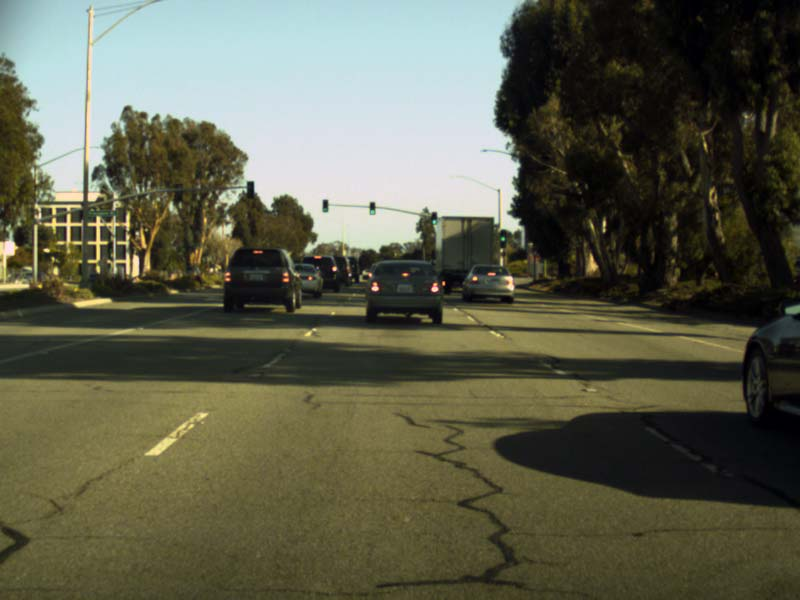Green: (321, 199, 328, 212), (500, 230, 505, 247), (369, 201, 374, 214), (431, 211, 436, 224)
